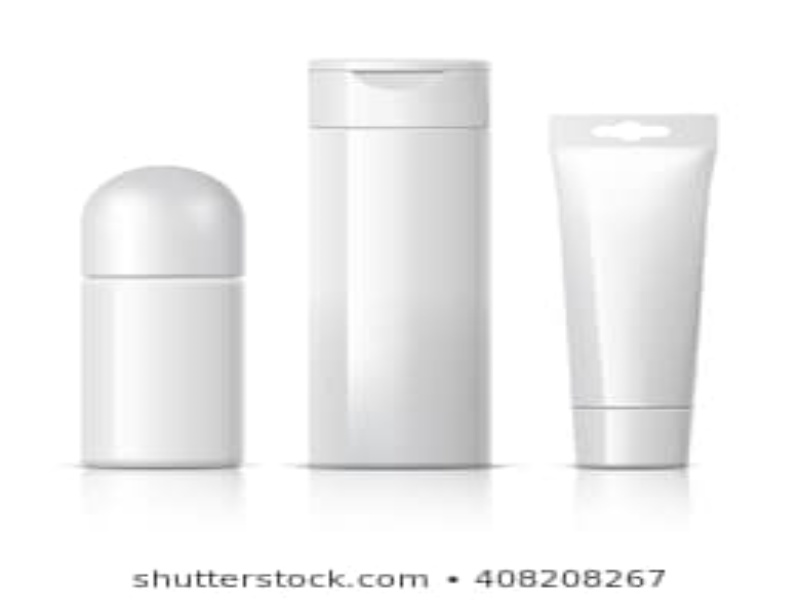shampoo-bottle: (301, 54, 499, 471), (544, 111, 720, 473)
